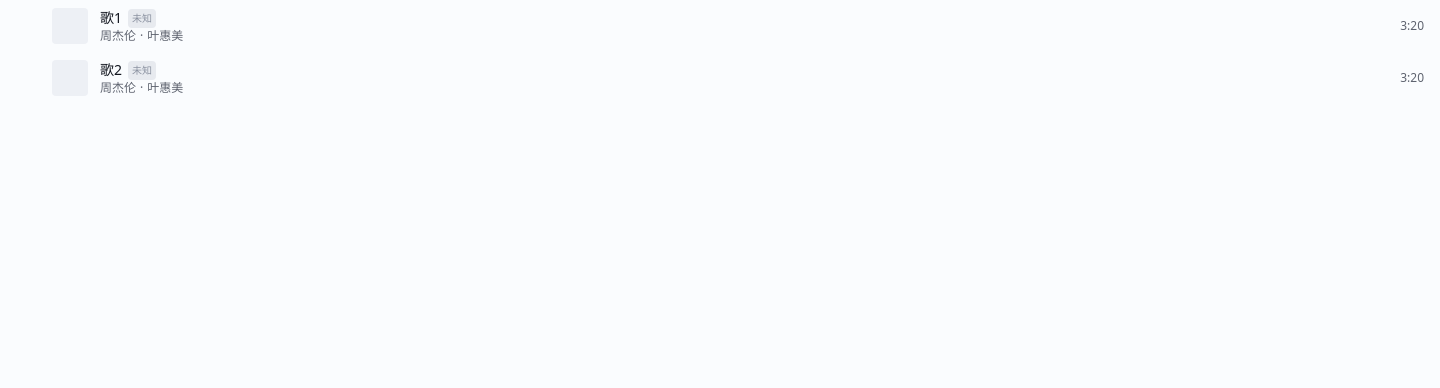
Test: 列表行右键菜单 › 点菜单外面 / 按 Esc 都收起
Right-click the button "歌1 未知 周杰伦 · 叶惠美 3:20": (70, 26) [0,0,1439,52]
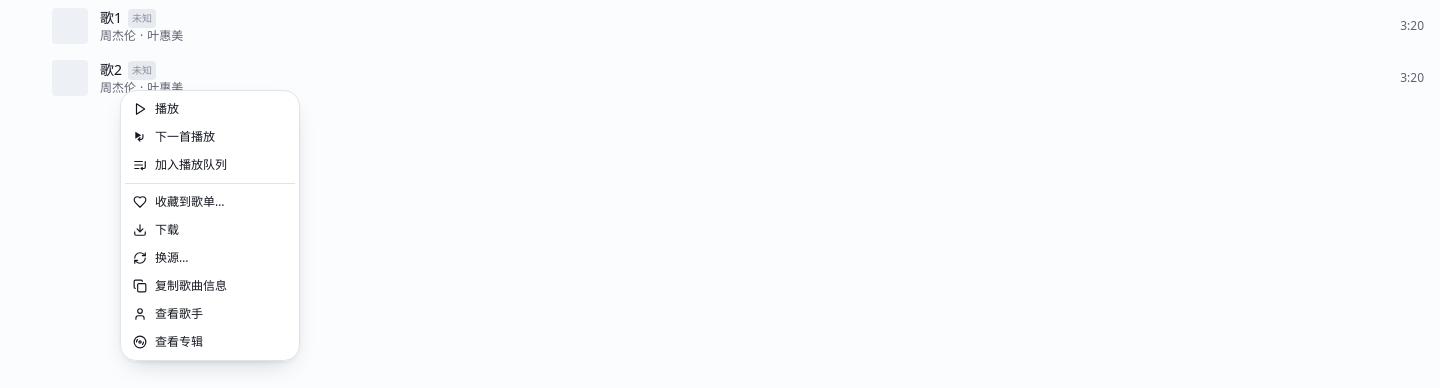
Press the mouse on the element that starts with "周杰伦": (720, 52) [0,0,1439,104]
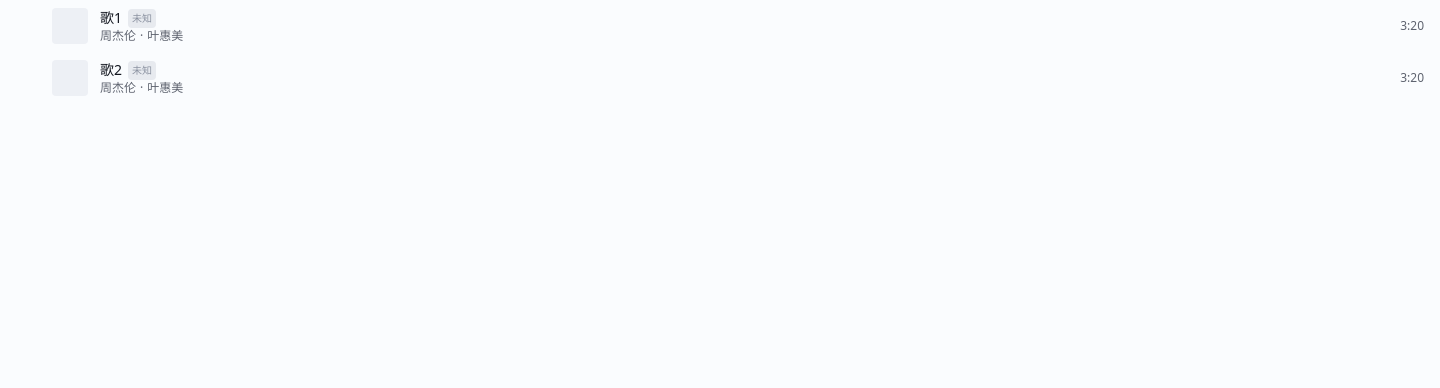
Expected: the menu is gone
Right-click the button "歌2 未知 周杰伦 · 叶惠美 3:20": (70, 78) [0,52,1439,104]
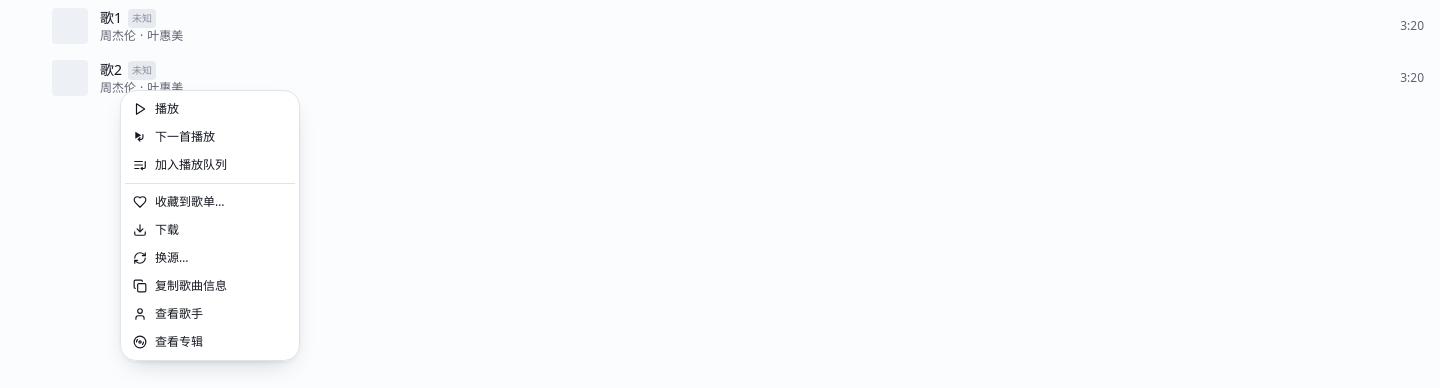
Press Escape
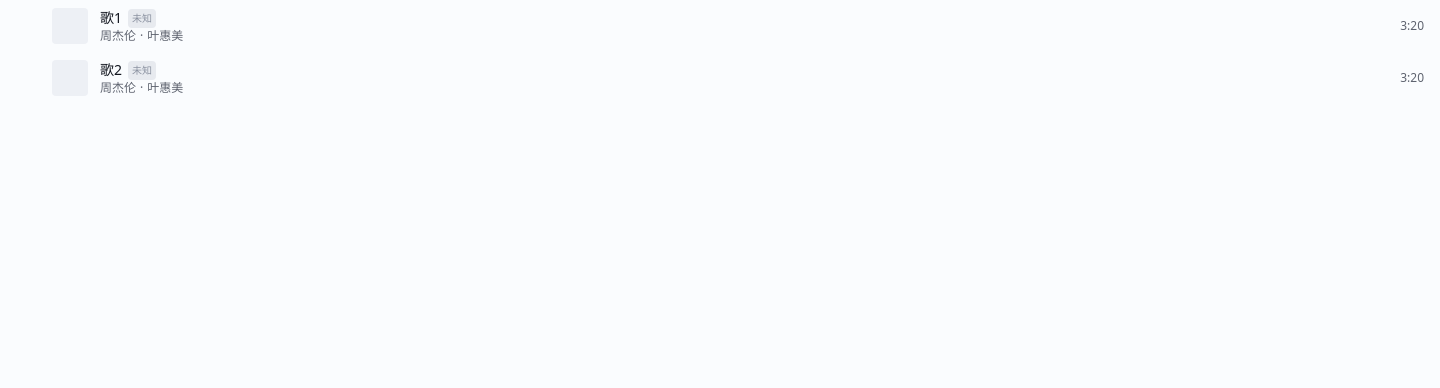
Expected: the menu is gone
